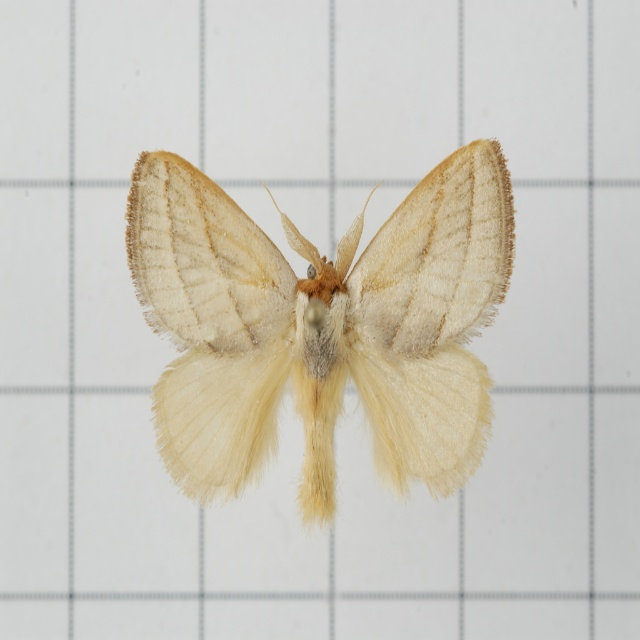Butterfly: (128, 145, 508, 551)
